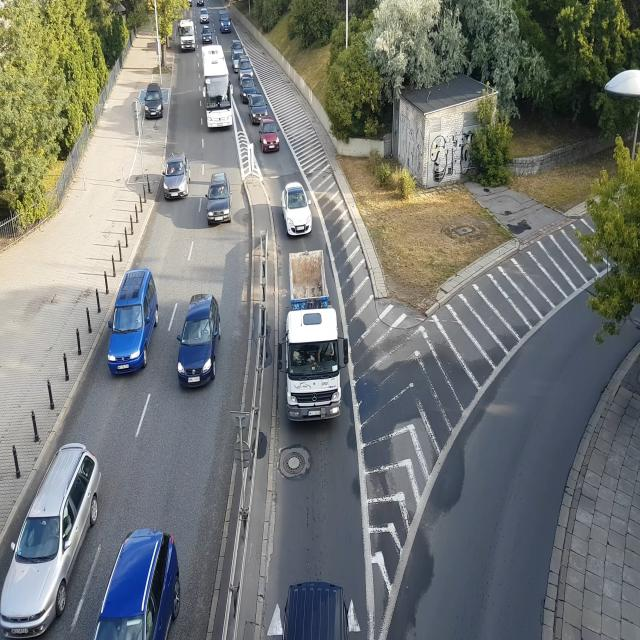bus: (202, 46, 234, 136)
car: (0, 442, 96, 640), (102, 529, 178, 640), (99, 273, 159, 373), (171, 297, 223, 393), (279, 583, 349, 640), (281, 180, 313, 240), (204, 170, 232, 227), (162, 152, 192, 201), (141, 85, 165, 120), (260, 122, 279, 154), (248, 95, 270, 121), (239, 78, 257, 100), (237, 57, 254, 80), (219, 11, 231, 35), (230, 35, 243, 51), (201, 26, 213, 43), (232, 51, 240, 72), (199, 9, 210, 24), (196, 0, 205, 5)
truck: (276, 249, 351, 436), (177, 15, 197, 52)
